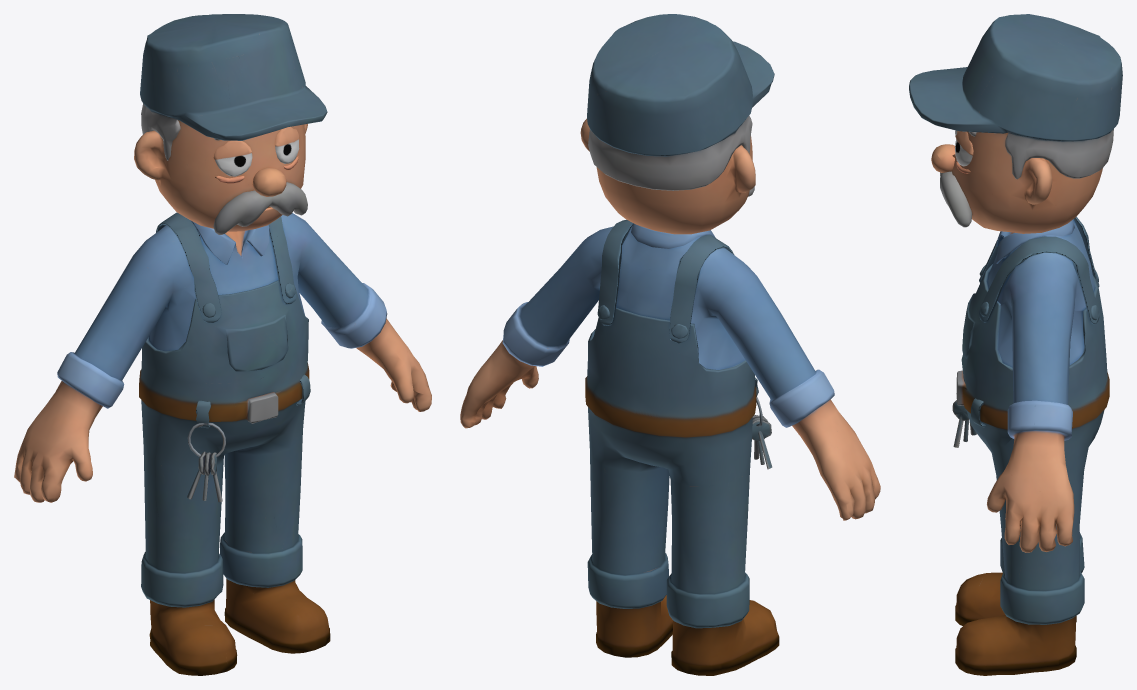
File: teacher_janitor.glb
3 renders of one model, left to right at view 1: azimuth 30°, elevation 25°; view 2: azimuth 150°, elevation 25°; view 3: azimuth 270°, elevation 25°, orthographic.
Visible parts, largest first — view 1: geometry_0; view 2: geometry_0; view 3: geometry_0.
Boxes of the visible parts, x1,y1,x2,y2 form: geometry_0: (14, 14, 431, 675); geometry_0: (460, 14, 880, 675); geometry_0: (909, 14, 1122, 675).
Bounding box in the file's own units: 0.6421 × 0.9512 × 0.3022.
Materials: 1 (1 with a texture image).
